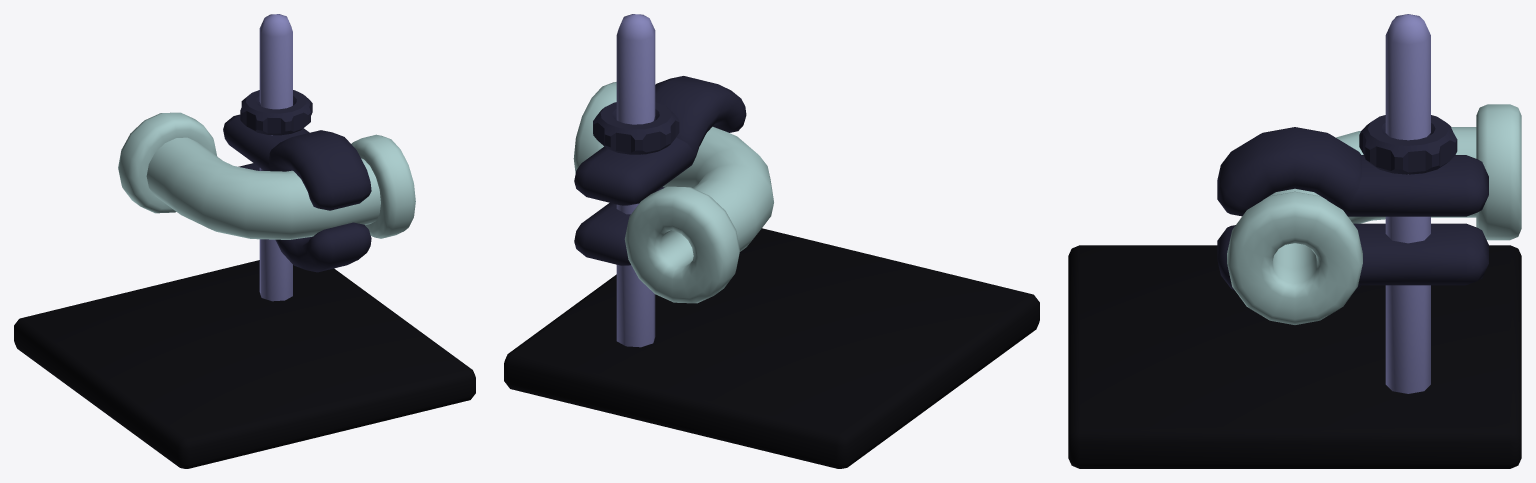
File: LastLuna_Model_Station_Pipe_Curve_Flip_Oldver.fbx
3 views of the same model, side by side, from view 1: azimuth 30°, elevation 25°; view 2: azimuth 150°, elevation 25°; view 3: azimuth 270°, elevation 25° (orthographic). The views are drawn at different scales.
Visible parts, largest first — view 1: Stand_Base_Small001, Pipe_Curve001, Pipe_Arm_Clamp001, Stand_Pole_Small001, Pipe_Arm_Clamp_Handle001; view 2: Stand_Base_Small001, Pipe_Curve001, Pipe_Arm_Clamp001, Stand_Pole_Small001, Pipe_Arm_Clamp_Handle001; view 3: Stand_Base_Small001, Pipe_Arm_Clamp001, Pipe_Curve001, Stand_Pole_Small001, Pipe_Arm_Clamp_Handle001.
Part boxes in pixels (left/top/right/bottom): Stand_Base_Small001: left=14, top=260, right=475, bottom=468; Pipe_Curve001: left=118, top=112, right=415, bottom=239; Pipe_Arm_Clamp001: left=223, top=114, right=371, bottom=272; Stand_Pole_Small001: left=259, top=14, right=292, bottom=301; Pipe_Arm_Clamp_Handle001: left=240, top=90, right=312, bottom=135; Stand_Base_Small001: left=504, top=228, right=1039, bottom=468; Pipe_Curve001: left=573, top=82, right=773, bottom=303; Pipe_Arm_Clamp001: left=574, top=76, right=746, bottom=265; Stand_Pole_Small001: left=616, top=14, right=655, bottom=347; Pipe_Arm_Clamp_Handle001: left=593, top=102, right=679, bottom=154; Stand_Base_Small001: left=1068, top=245, right=1521, bottom=468; Pipe_Arm_Clamp001: left=1217, top=127, right=1488, bottom=290; Pipe_Curve001: left=1227, top=104, right=1521, bottom=324; Stand_Pole_Small001: left=1385, top=14, right=1430, bottom=393; Pipe_Arm_Clamp_Handle001: left=1359, top=115, right=1457, bottom=174.
Bounding box in the file's own units: 100 × 100 × 100.
